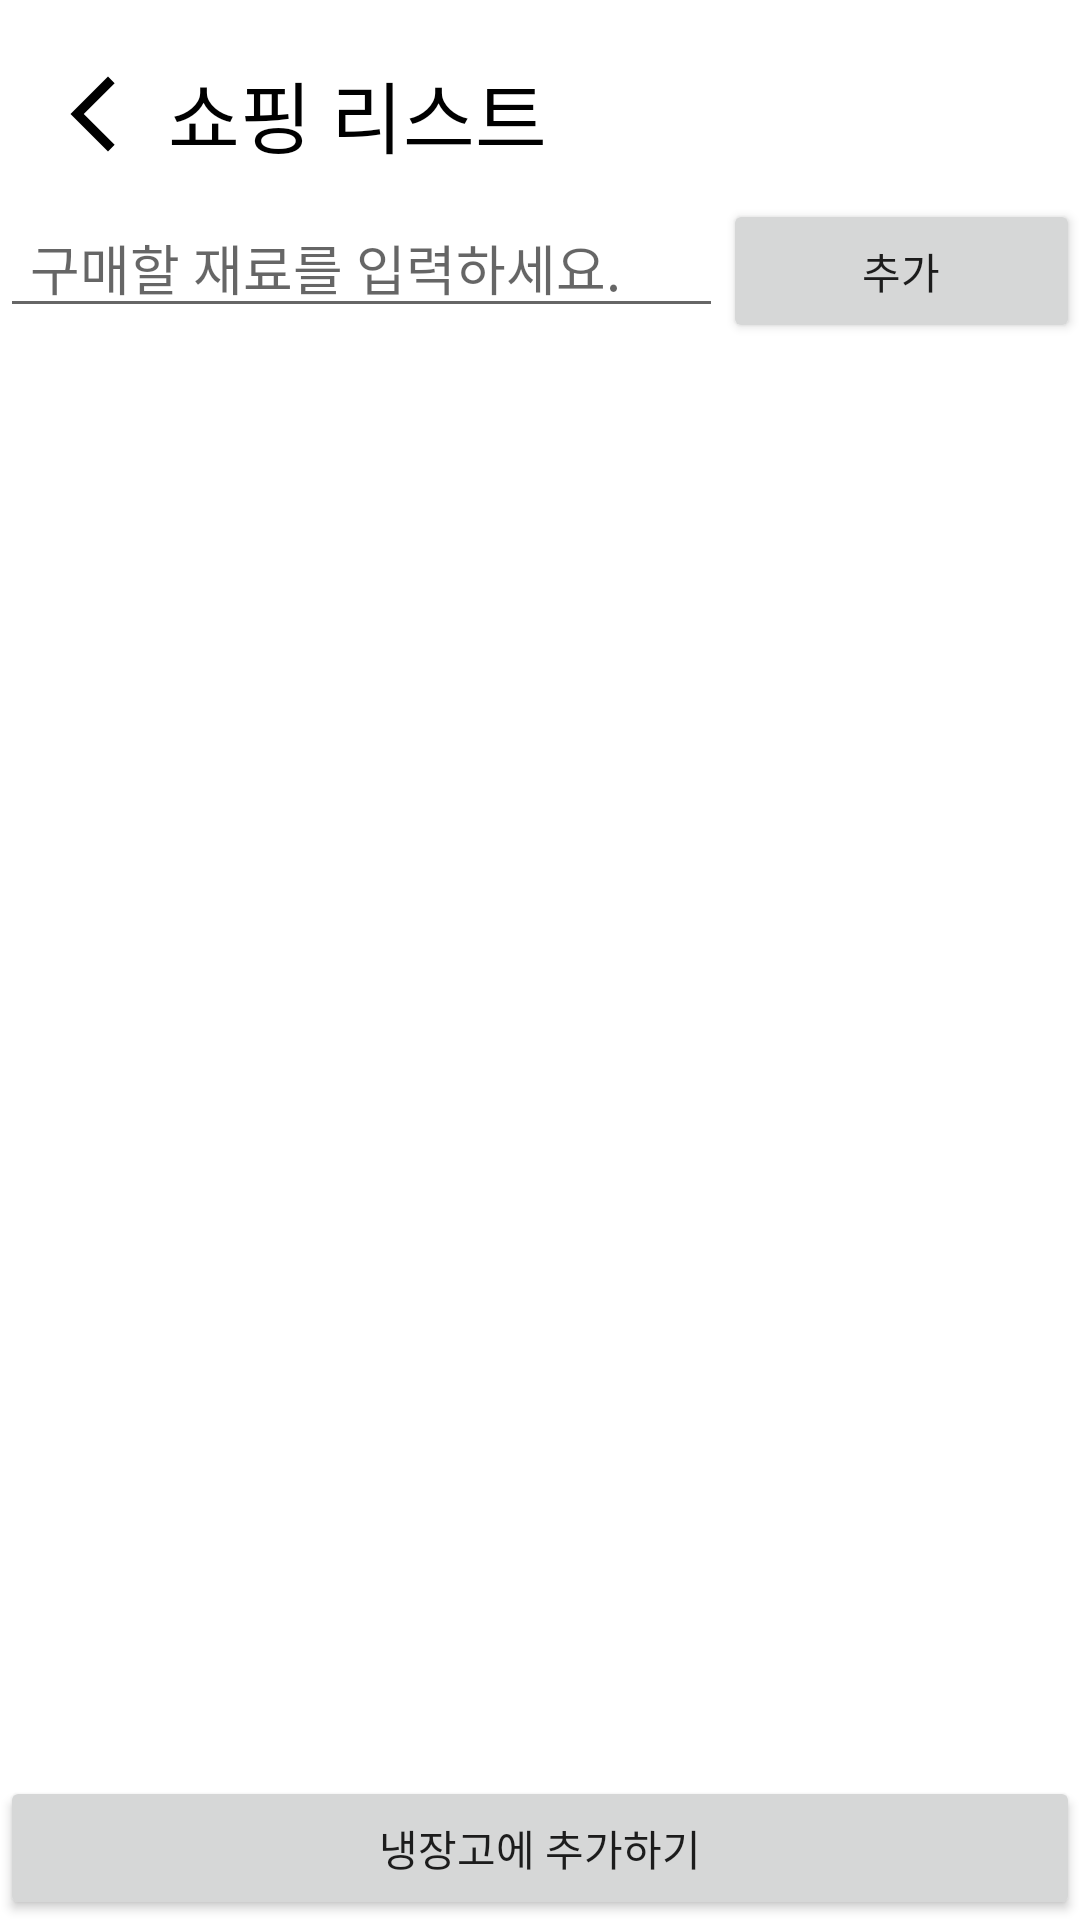

Point at icon controls on the screen. Image size 1080x1920, points as (x=x, y=y).
back: (x=92, y=114)
